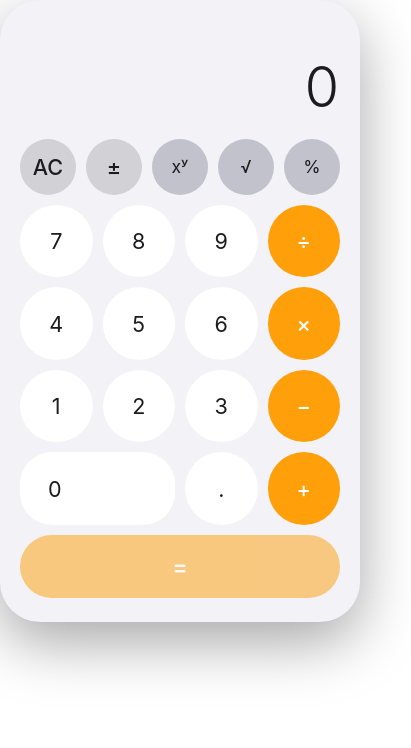
Test case: Calculator › renders the backend error message when the API rejects the request
Click the button "4".
click(56, 324)  # box [20,287,92,360]
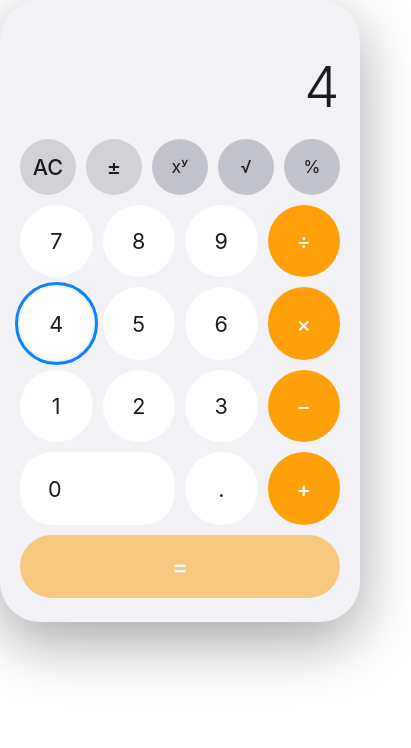
Click the button "÷".
click(304, 241)  # box [268,205,340,277]
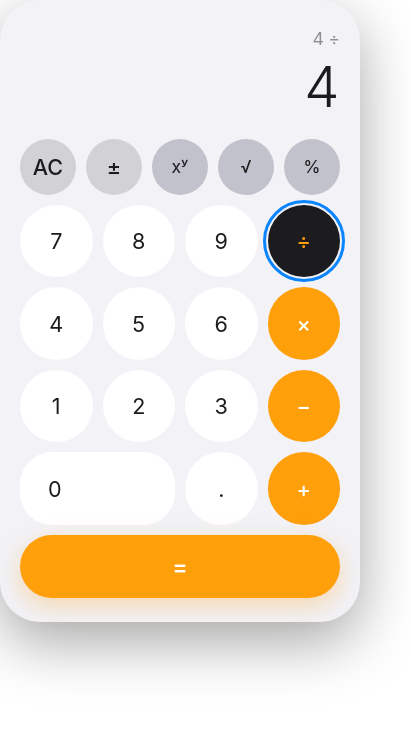
Click the button "0".
click(98, 489)  # box [20,452,175,525]
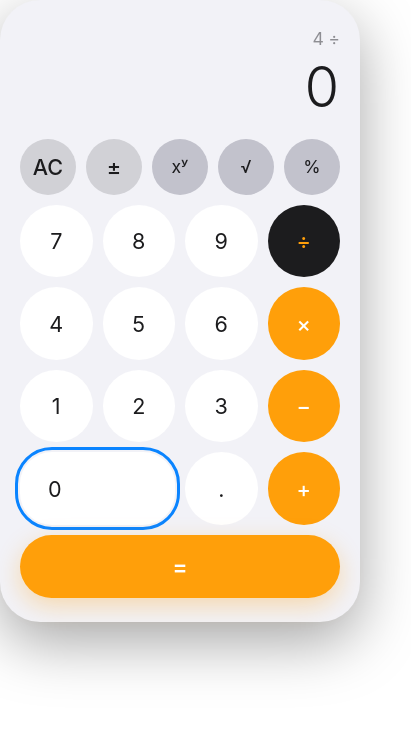
Click the button "=".
click(180, 566)  # box [20,535,340,598]
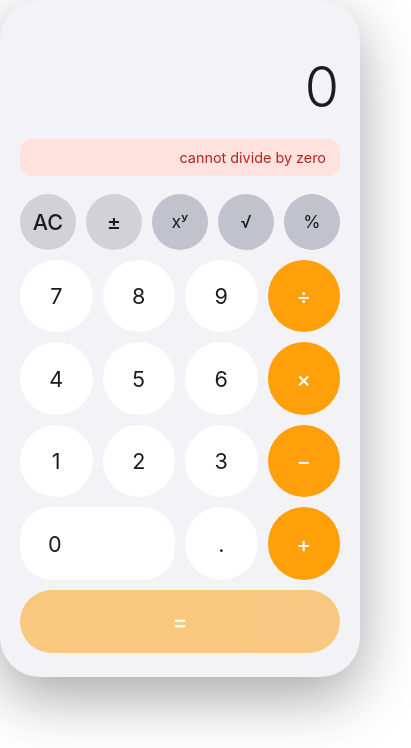
Expected: the message reads "cannot divide by zero", [179,149,326,166]
